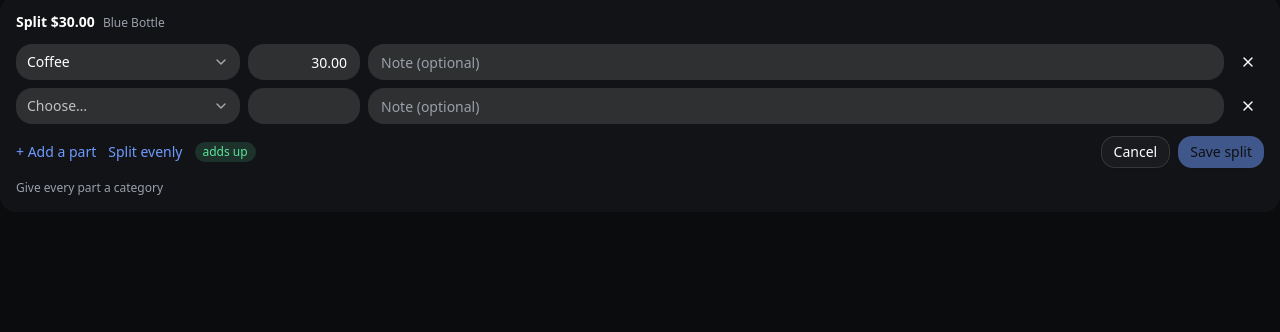
Test: SplitEditor › won't save a part without an amount
Click the dropdown named "Category of part 2" at (128, 106), box [16,88,240,124]
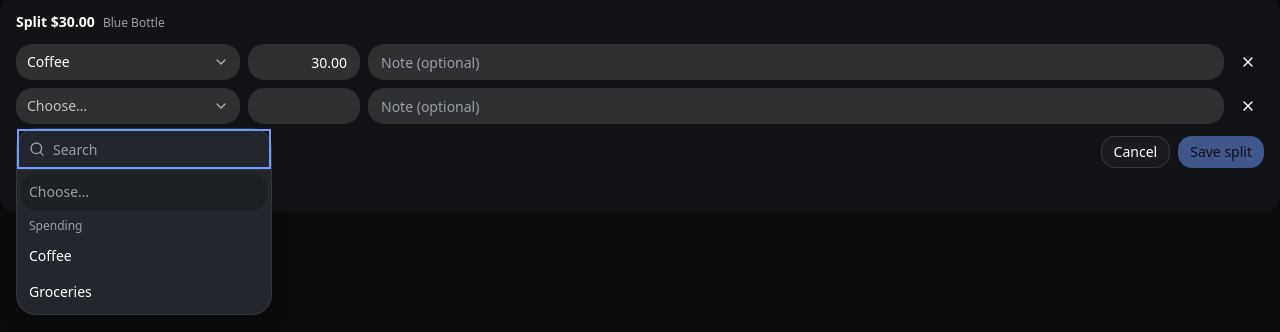
Click the option "Groceries" at (60, 292), box [29,282,92,301]
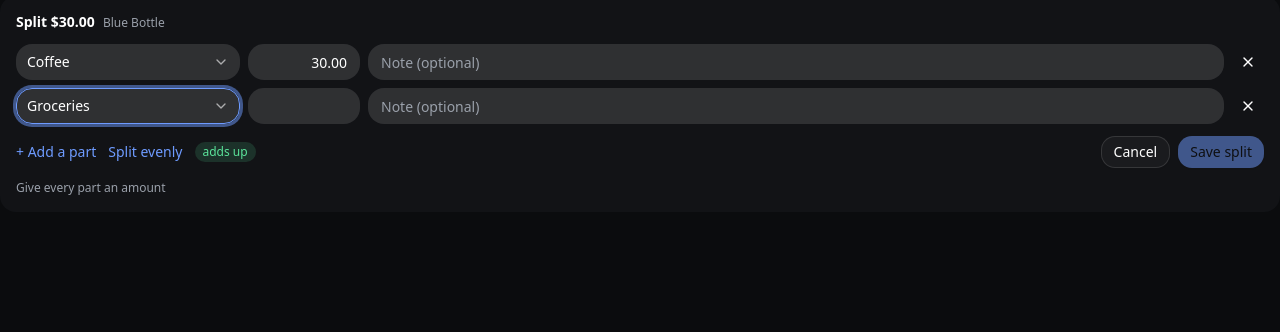
Expected: the button "Save split" is disabled, [1178,136,1264,168]
Result: the text "Give every part an amount" is shown at [16,179,166,196]
